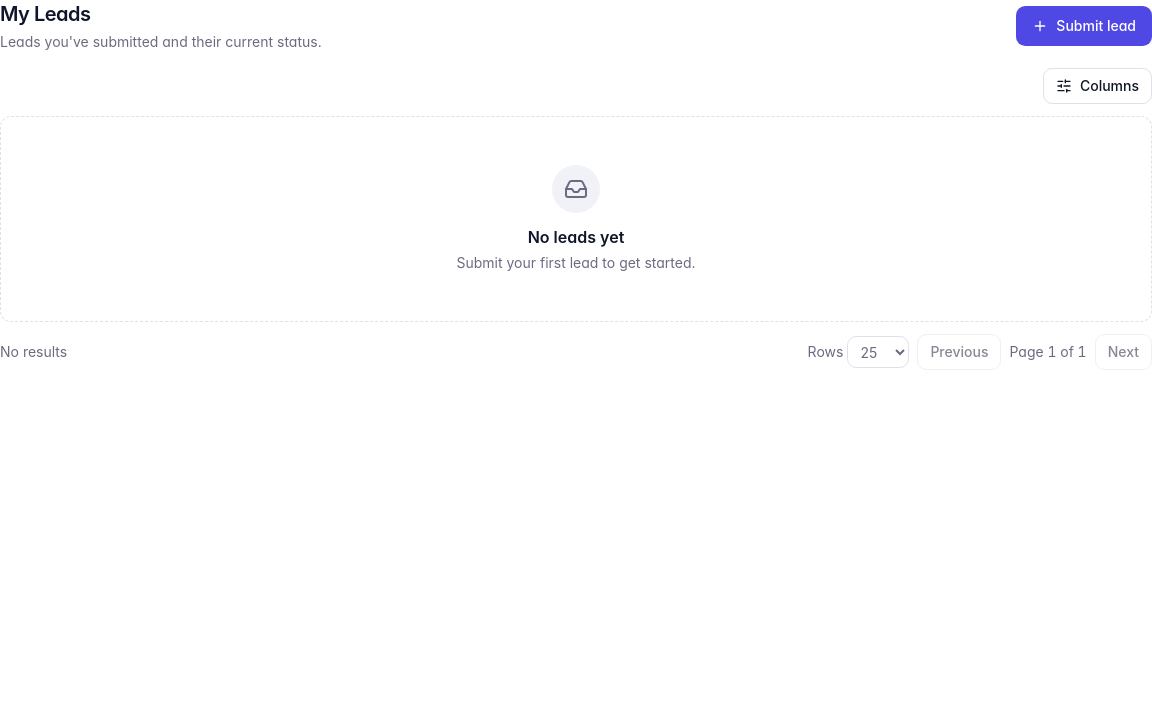
Test: PartnerLeadsPage › opens the submit-lead modal
Click the button "Submit lead" at point(1084, 26), box [1016,6,1151,46]
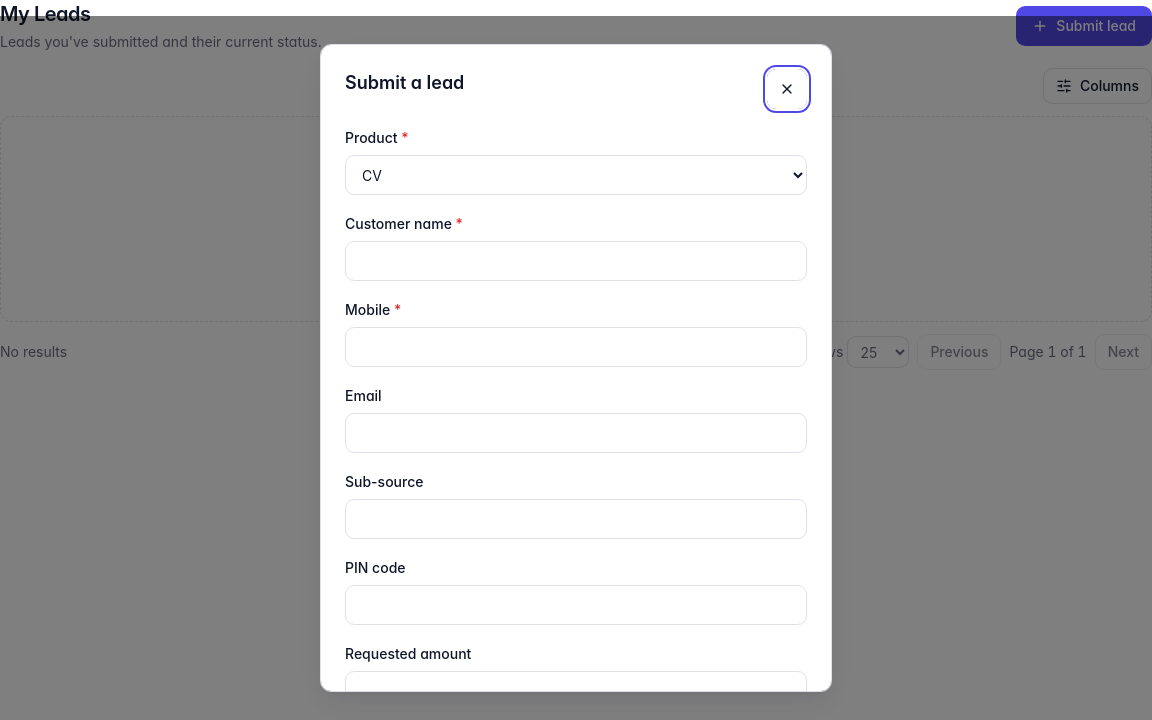
Check: the dialog is shown, box [320,44,832,692]
Check: the field labelled "Customer name *" is shown, box [345,241,807,281]
Check: the field labelled "Mobile *" is shown, box [345,327,807,367]
